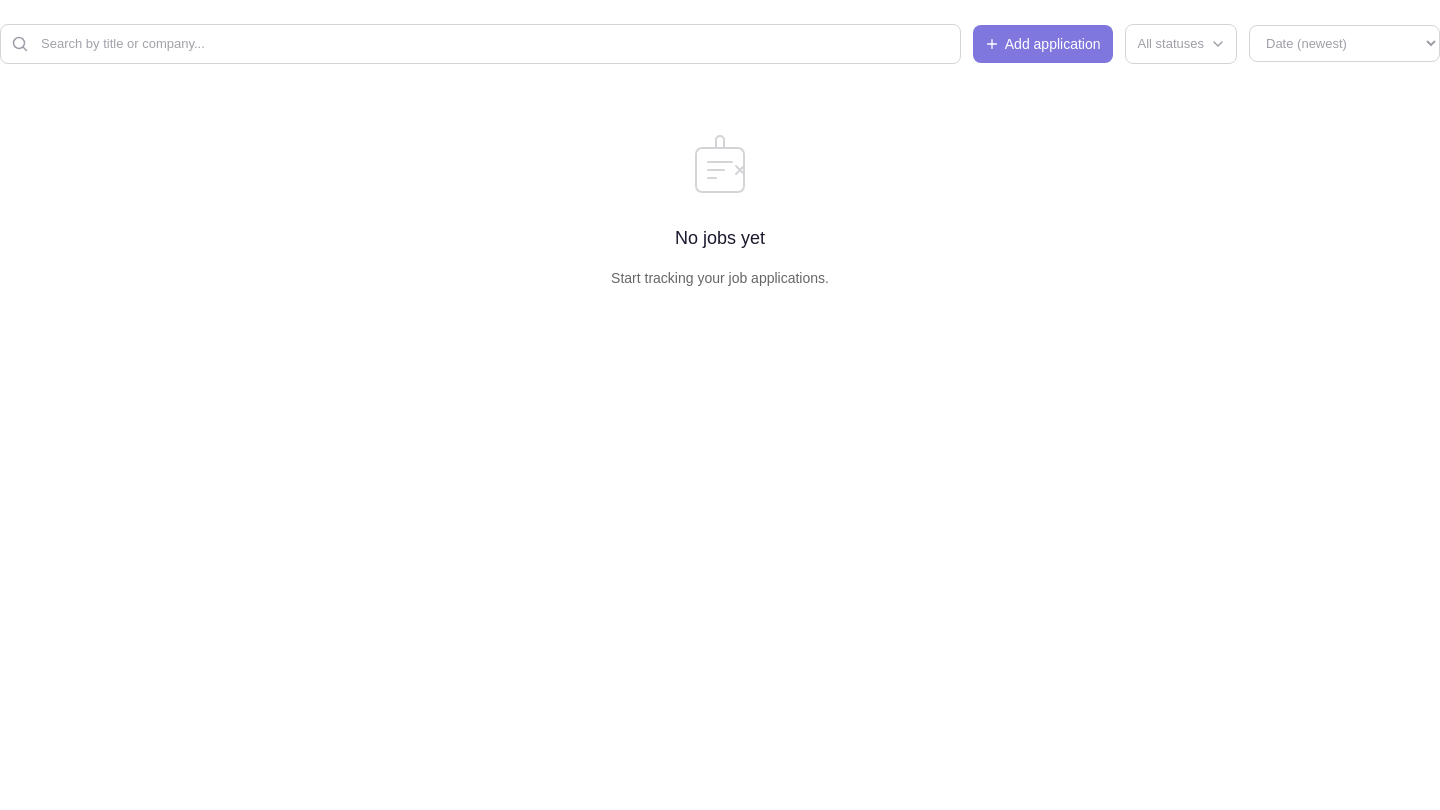
Test: JobsList › opens the Add Job modal when the toolbar button is clicked
The width and height of the screenshot is (1440, 810).
Expected: the heading "No jobs yet" is shown, [675,224,765,252]
Click the button "Add application".
click(1043, 44)  # box [973,25,1113,63]
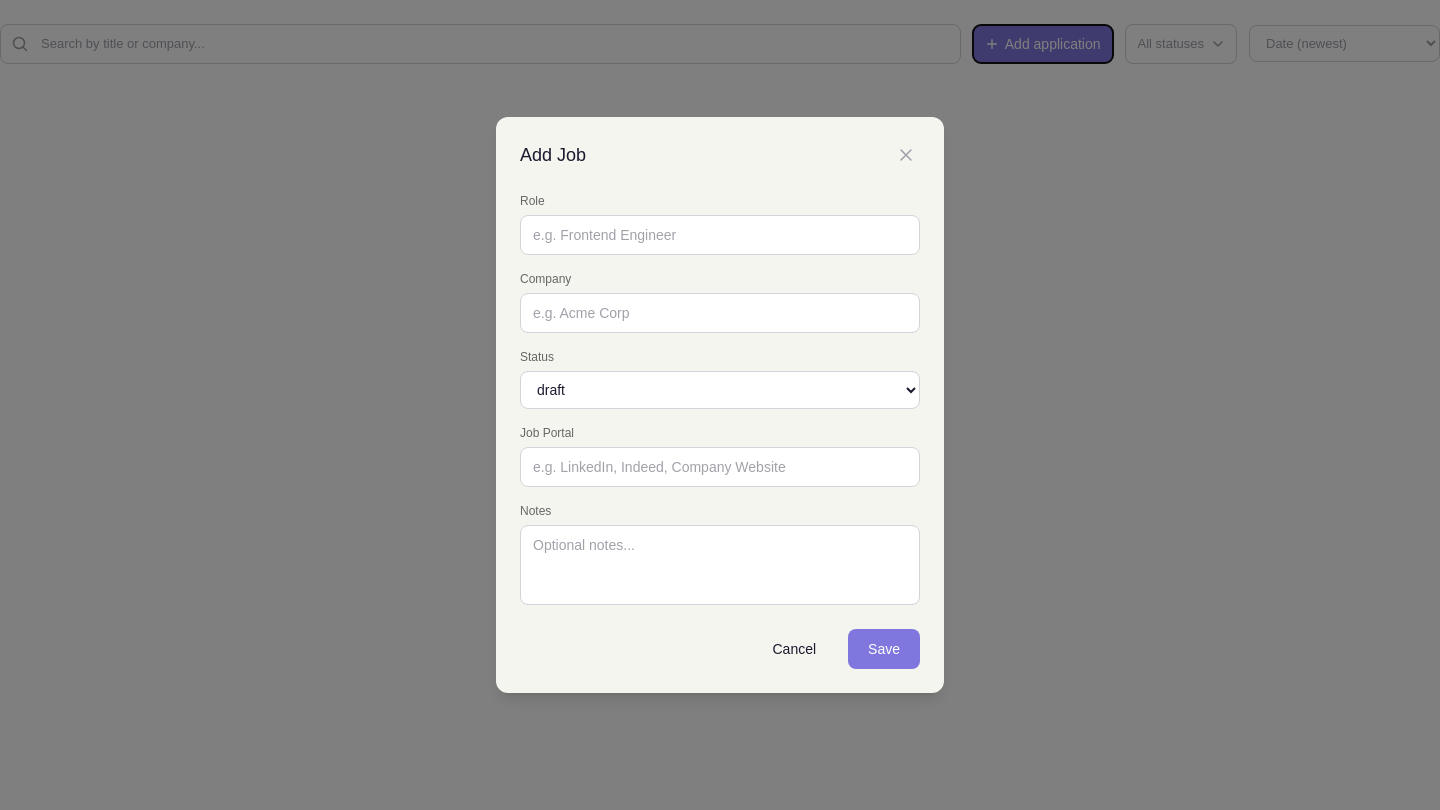
Now the heading "Add Job" is shown, box [520,141,586,169]
